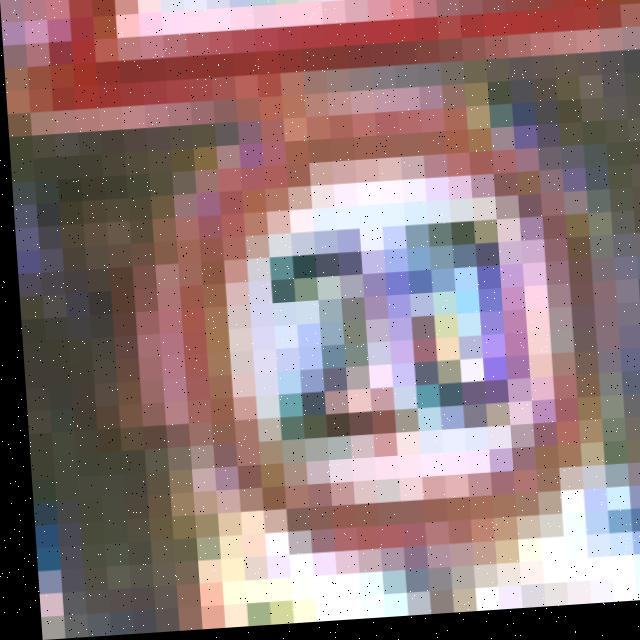speed_limit_20: (149, 100, 638, 569)
